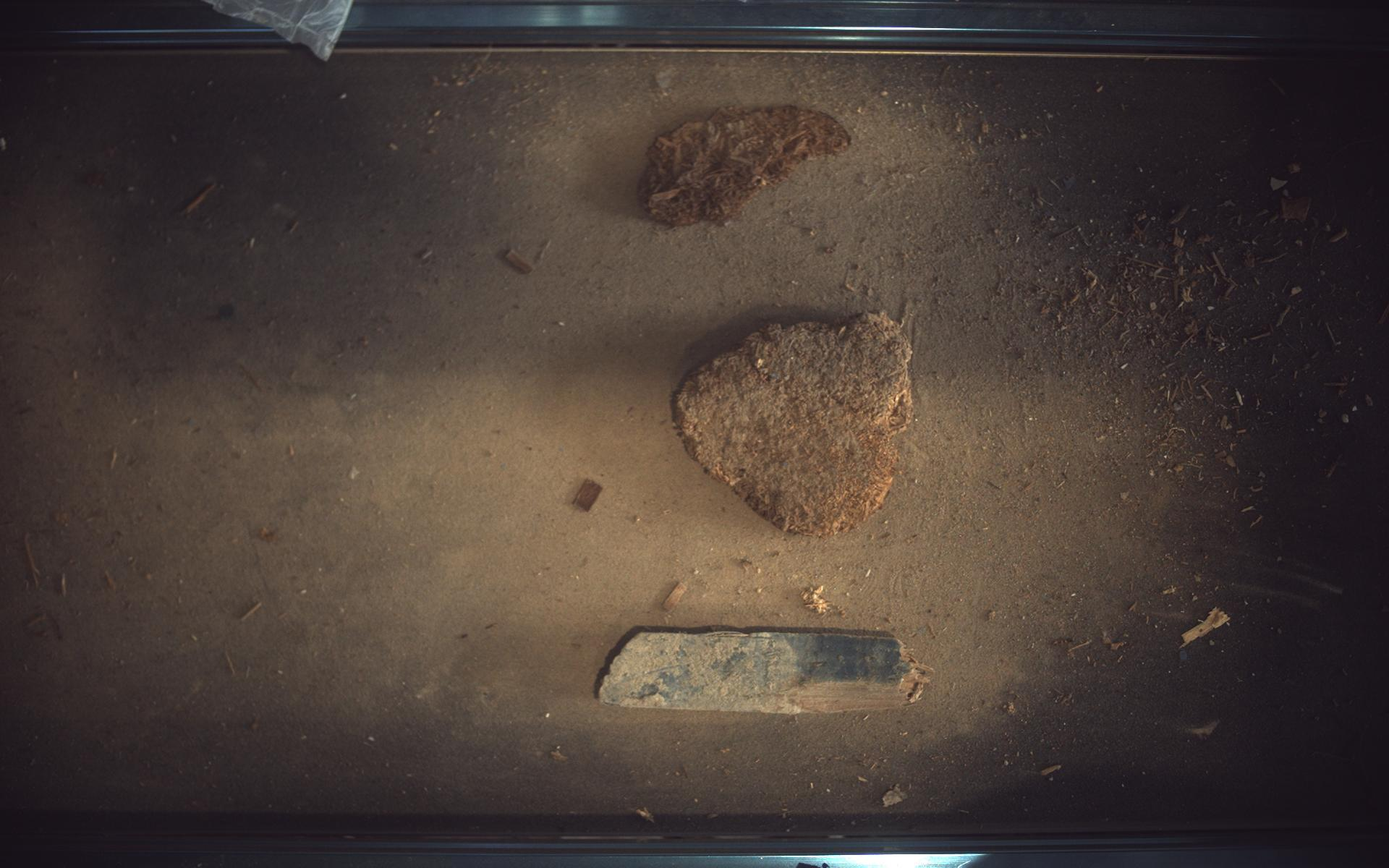wood: (675, 312, 914, 537), (600, 631, 931, 715), (640, 104, 851, 226)
